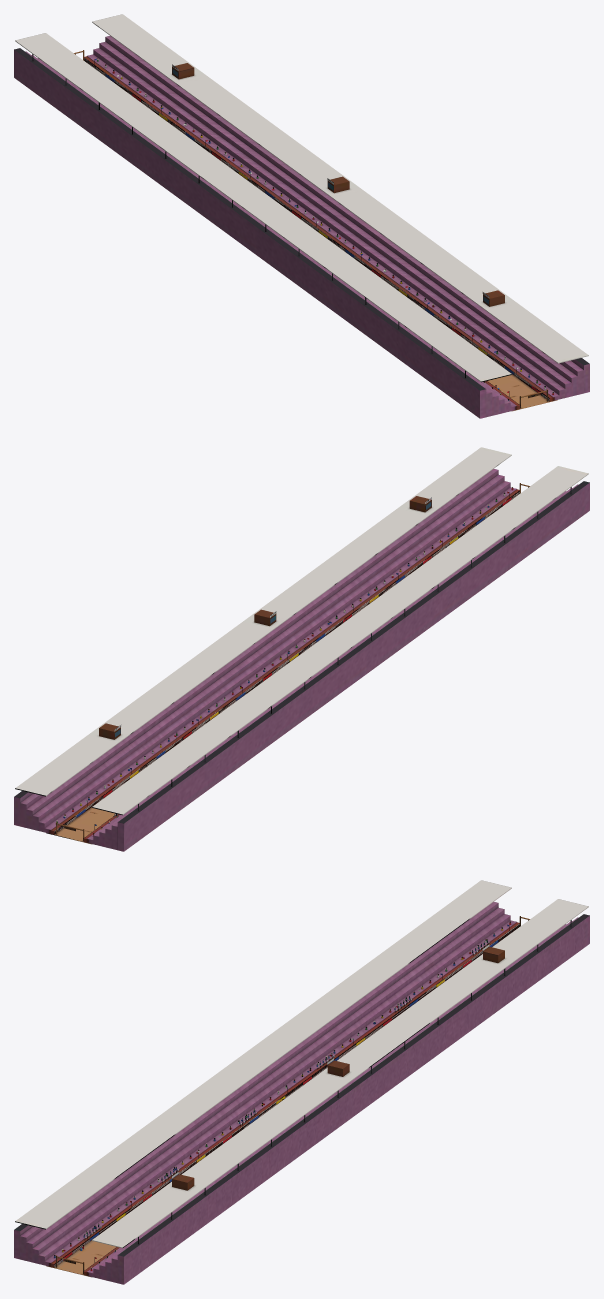
File: arena_rodeo.glb
3 renders of one model, top to bottom at view 1: azimuth 30°, elevation 25°; view 2: azimuth 150°, elevation 25°; view 3: azimuth 330°, elevation 25°, orthographic.
Visible parts, largest first — view 1: arena_rodeo; view 2: arena_rodeo; view 3: arena_rodeo.
Part boxes in pixels (<box>): arena_rodeo: <box>14,14,589,418</box>; arena_rodeo: <box>14,447,589,851</box>; arena_rodeo: <box>14,880,589,1284</box>.
Bounding box in the file's own units: 57.2 × 23.8 × 420.
1 material, 1 textured.
